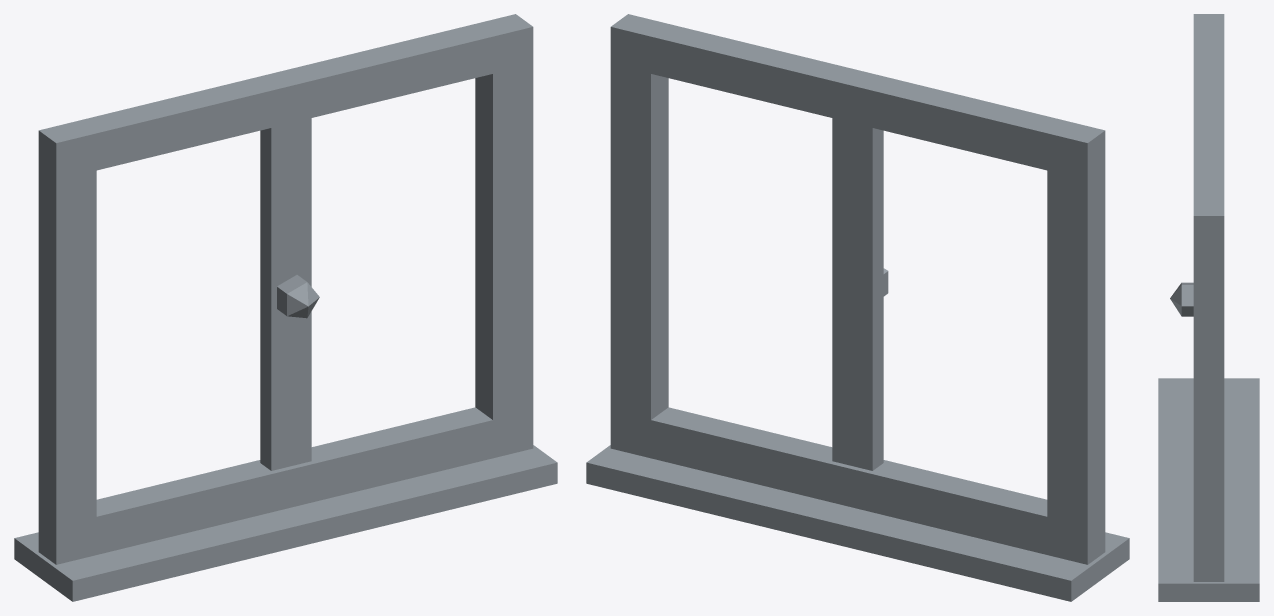
Rendered from Window_1A.fbx.
3 views of the same model, side by side, from view 1: azimuth 30°, elevation 25°; view 2: azimuth 150°, elevation 25°; view 3: azimuth 270°, elevation 25° (orthographic). The views are drawn at different scales.
Visible parts, largest first — view 1: polySurface1478; view 2: polySurface1478; view 3: polySurface1478.
Boxes of the visible parts, left/top/right/bottom form: polySurface1478: left=14, top=14, right=557, bottom=601; polySurface1478: left=586, top=14, right=1129, bottom=601; polySurface1478: left=1158, top=14, right=1259, bottom=601.
Bounding box in the file's own units: 2.4 × 2.09 × 0.5.
Materials: 1 (1 with a texture image).
